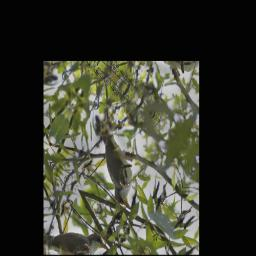Cuckoo: (67, 84, 169, 214)
